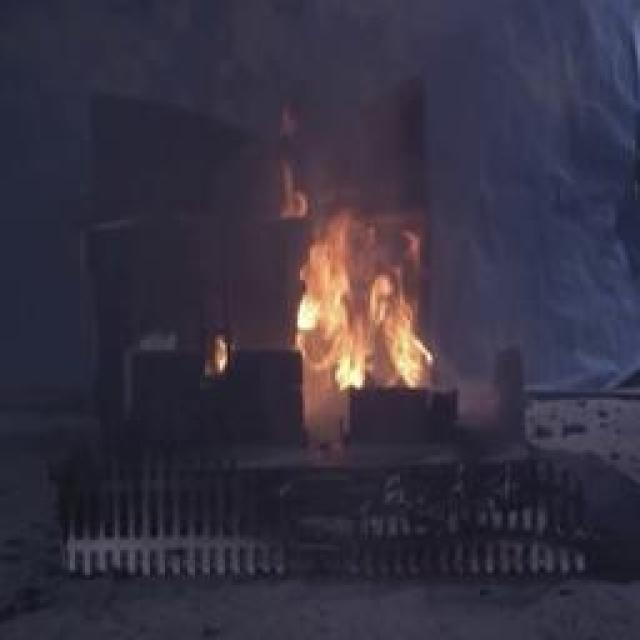fire: (266, 180, 449, 415)
